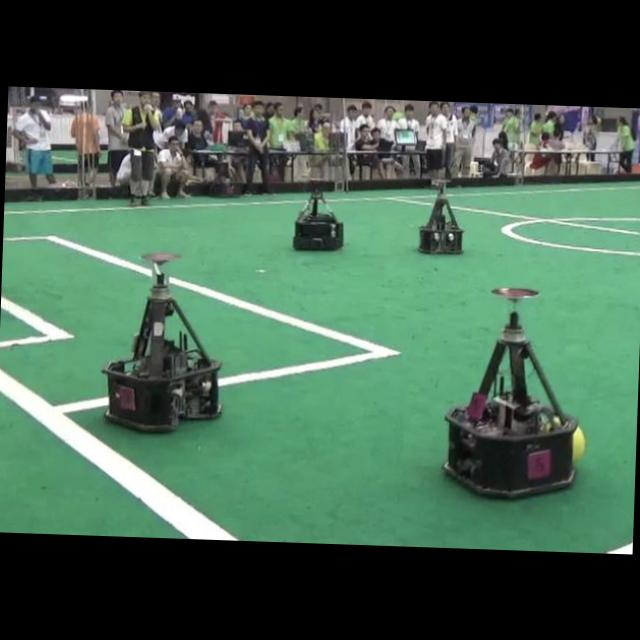ball: (572, 426, 586, 463)
robot: (444, 287, 578, 497), (102, 273, 220, 431), (419, 181, 463, 253), (293, 187, 342, 249)
